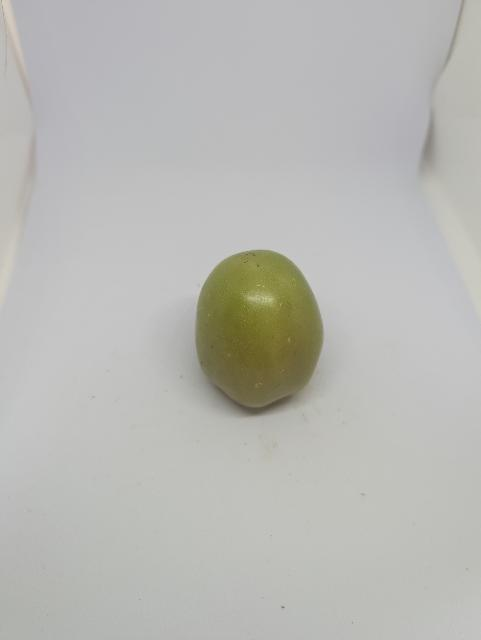green: (179, 244, 346, 435)
